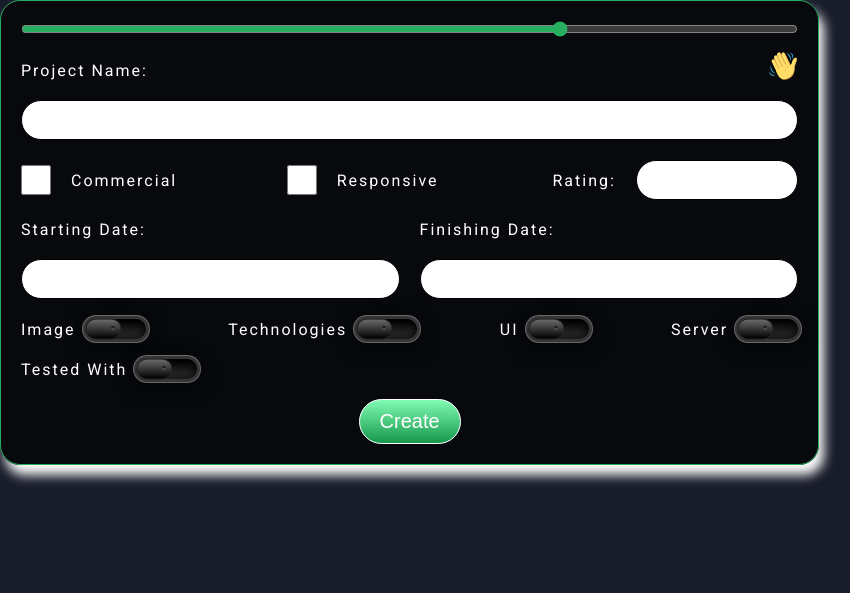
it: Project Form › User Events › should render the testedWith fieldset after clicking on the testedWith switch btn
# testing the swtich label
Step 1. Click the text "Tested With" → click(74, 369), box left=21, top=360, right=127, bottom=378
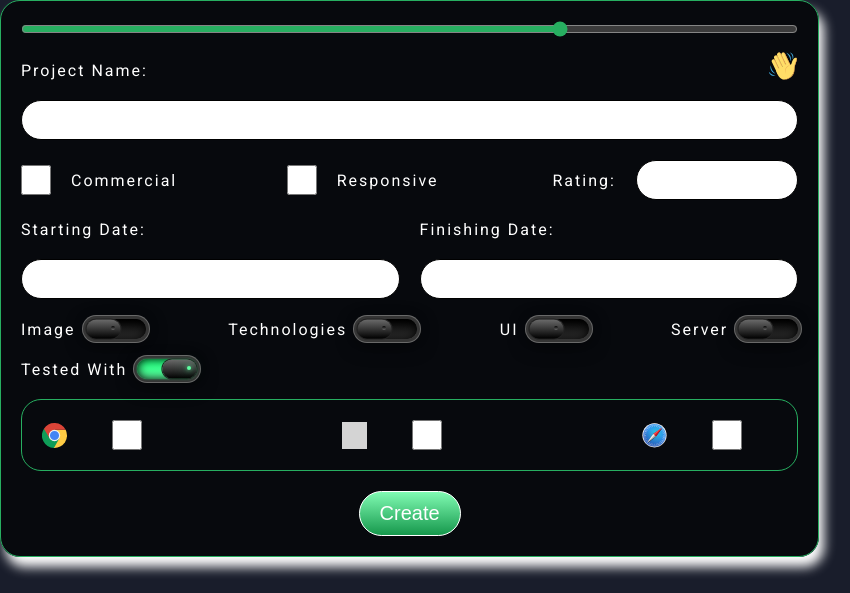
Result: the picture named "chrome" is shown at left=42, top=422, right=67, bottom=448
Result: the 1st checkbox named "chrome" is shown at left=77, top=420, right=177, bottom=450
Result: the 2nd checkbox named "firefox" is shown at left=377, top=420, right=477, bottom=450
# testing the swtich
Step 2. Click the checkbox labelled "Tested With" → click(167, 369), box left=137, top=359, right=197, bottom=379
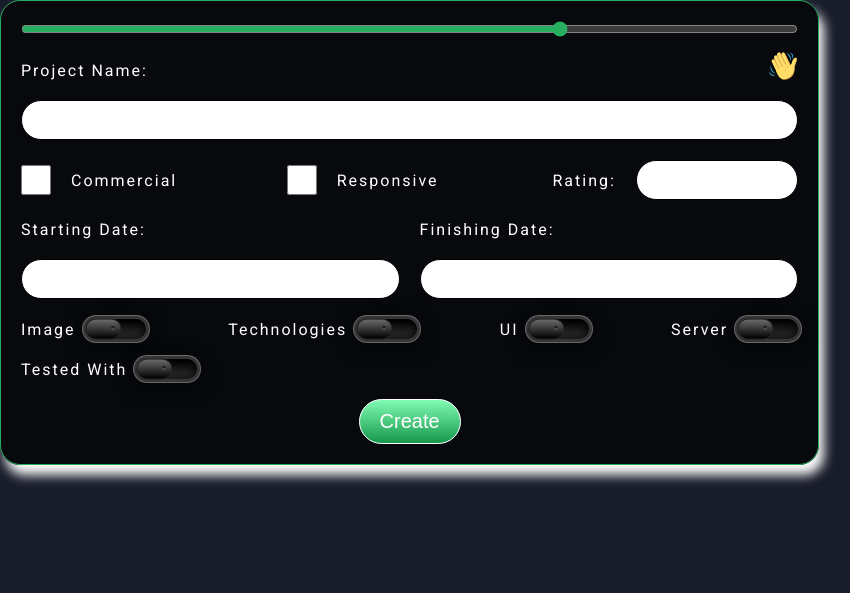
Result: the picture "chrome" is gone
Result: the picture "firefox" is gone
Result: the picture "safari" is gone
